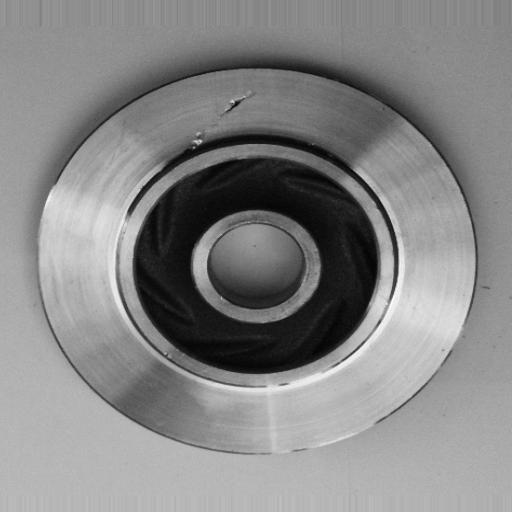crack: (190, 88, 260, 158)
unpolished_casting: (37, 64, 479, 459)
